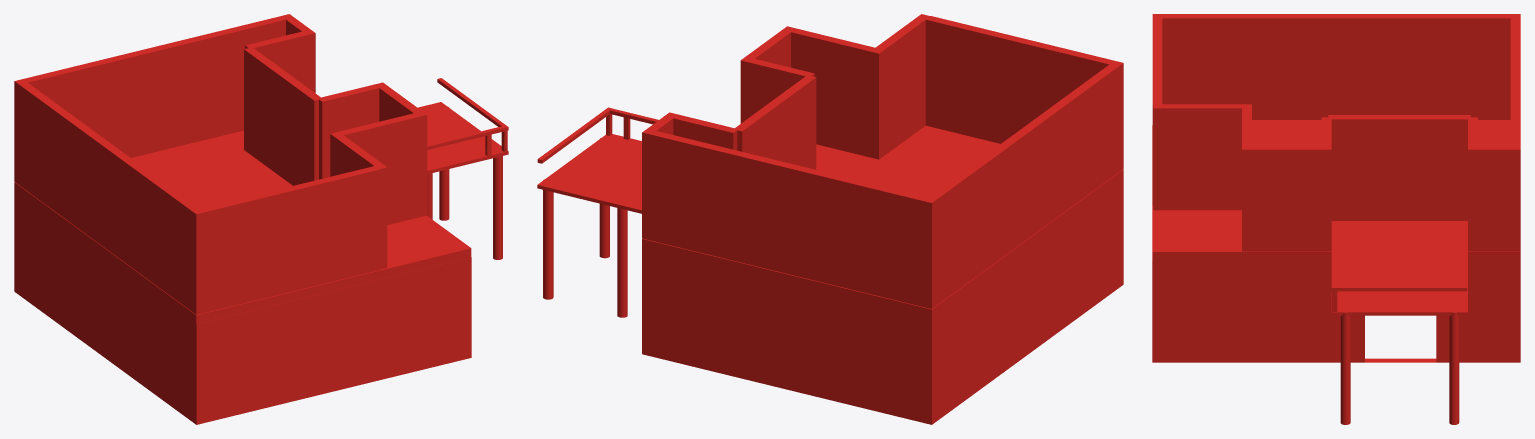
The model's file is hotel.glb.
3 renders of one model, left to right at view 1: azimuth 30°, elevation 25°; view 2: azimuth 150°, elevation 25°; view 3: azimuth 270°, elevation 25°, orthographic. The views are drawn at different scales.
Visible parts, largest first — view 1: Cube; view 2: Cube; view 3: Cube.
Boxes of the visible parts, box(x1,y1,x2,y2) form: Cube: box(14, 14, 508, 424); Cube: box(537, 14, 1123, 424); Cube: box(1152, 14, 1520, 424).
Size of what is drawn, in the model's own units: 5.91 by 2.96 by 4.64.
